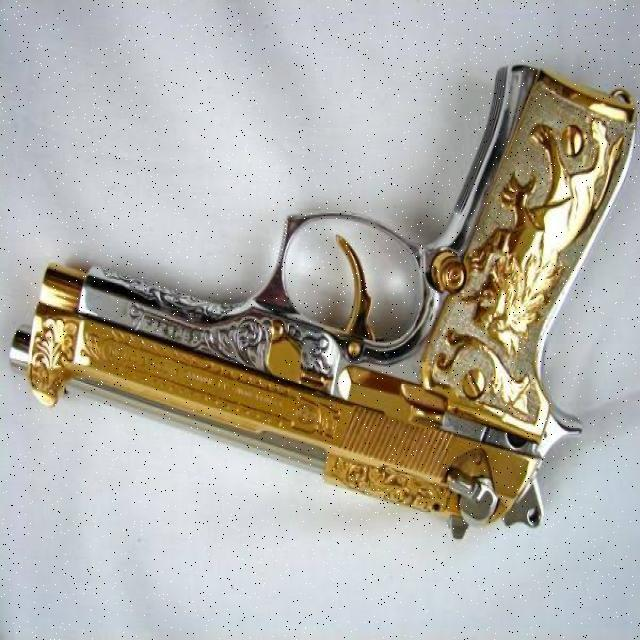gun: (7, 51, 639, 556)
